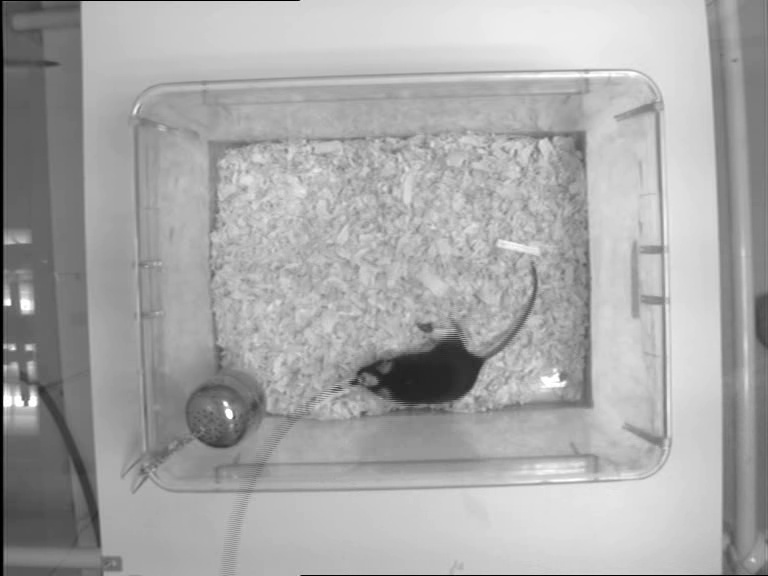mice: (352, 258, 539, 405)
